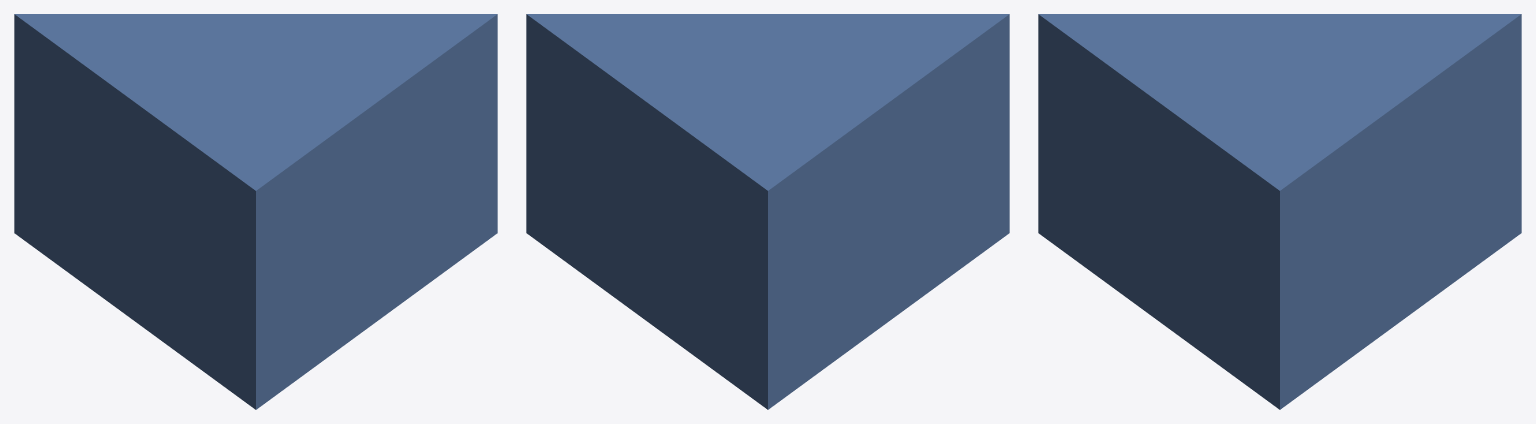
The model's file is tri_1_lake_lake_lake.glb.
3 renders of one model, left to right at view 1: azimuth 30°, elevation 25°; view 2: azimuth 150°, elevation 25°; view 3: azimuth 270°, elevation 25°, orthographic.
Parts seen in each view (by area): view 1: tri_1_lake_lake_lake; view 2: tri_1_lake_lake_lake; view 3: tri_1_lake_lake_lake.
Boxes of the visible parts, x1=… form: tri_1_lake_lake_lake: x1=14, y1=14, x2=497, y2=409; tri_1_lake_lake_lake: x1=526, y1=14, x2=1009, y2=409; tri_1_lake_lake_lake: x1=1038, y1=14, x2=1521, y2=409.
Bounding box in the file's own units: 0.8663 × 0.5 × 1.
